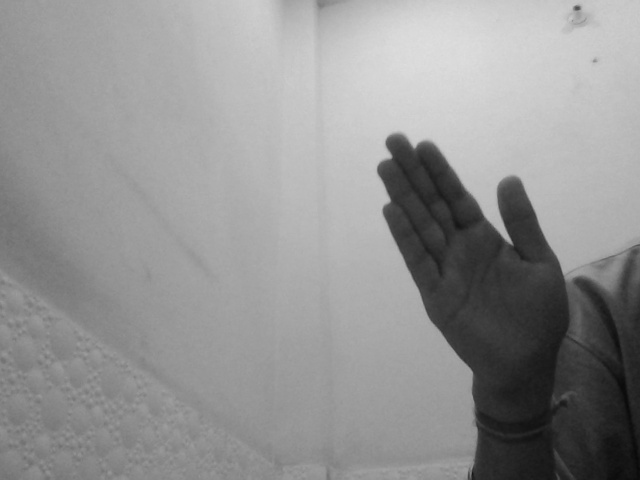Hello: (370, 127, 574, 402)
